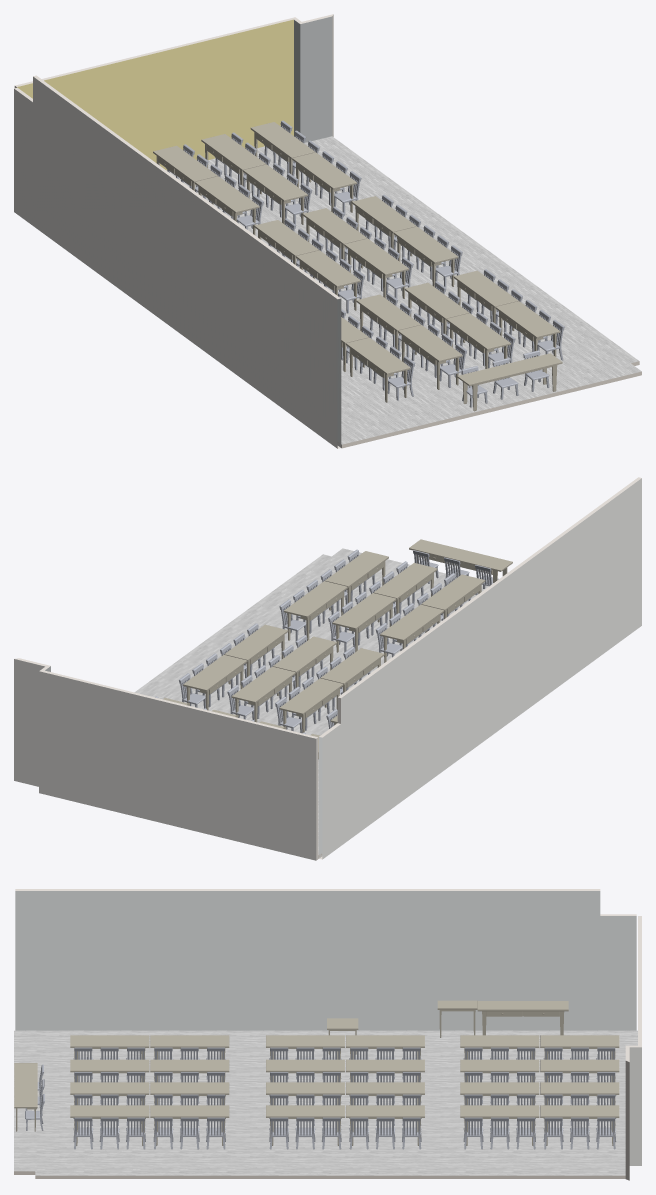
The picture shows the model from 3 angles, top to bottom: view 1: azimuth 30°, elevation 25°; view 2: azimuth 150°, elevation 25°; view 3: azimuth 270°, elevation 25°; orthographic projection. The views are drawn at different scales.
Visible parts, largest first — view 1: wall_28, floor_Dining Room_0, wall_0, wall_3, table10, table6.001, table6.002, table6.009, table6.022, table6.010, table6.006, table6.021 (+17 smaller); view 2: wall_28, wall_8, floor_Dining Room_0, wall_20, table10, table6.007, table6.004, table6.008, table6.011, table6.012, wall_29, table6.003 (+7 smaller); view 3: wall_5, floor_Dining Room_0, floor_Dining Room_2, table4, wall_32, wall_29, table10, table6.023, table6.022, table6.008, table6.009, table6.007 (+41 smaller).
Part boxes in pixels (left/top/right/bottom): wall_28: left=14, top=76, right=337, bottom=448; floor_Dining Room_0: left=166, top=136, right=641, bottom=444; wall_0: left=17, top=19, right=293, bottom=170; wall_3: left=300, top=16, right=332, bottom=142; table10: left=457, top=353, right=562, bottom=411; table6.001: left=346, top=337, right=410, bottom=402; table6.002: left=398, top=325, right=462, bottom=389; table6.009: left=393, top=226, right=458, bottom=286; table6.022: left=292, top=152, right=356, bottom=212; table6.010: left=344, top=238, right=408, bottom=298; table6.006: left=495, top=301, right=560, bottom=356; table6.021: left=243, top=164, right=307, bottom=224; wall_28: left=322, top=478, right=641, bottom=859; wall_8: left=39, top=671, right=316, bottom=860; floor_Dining Room_0: left=134, top=548, right=488, bottom=854; wall_20: left=14, top=659, right=44, bottom=786; table10: left=409, top=539, right=512, bottom=582; table6.007: left=284, top=581, right=347, bottom=640; table6.004: left=332, top=593, right=396, bottom=652; table6.008: left=183, top=655, right=247, bottom=710; table6.011: left=231, top=666, right=295, bottom=722; table6.012: left=279, top=678, right=343, bottom=732; wall_29: left=319, top=477, right=641, bottom=737; table6.003: left=380, top=604, right=443, bottom=662; wall_5: left=15, top=891, right=636, bottom=1030; floor_Dining Room_0: left=14, top=1030, right=637, bottom=1175; floor_Dining Room_2: left=14, top=1171, right=625, bottom=1178; table4: left=477, top=1001, right=568, bottom=1035; wall_32: left=629, top=1047, right=641, bottom=1165; wall_29: left=15, top=889, right=636, bottom=915; table10: left=14, top=1063, right=37, bottom=1131; table6.023: left=540, top=1105, right=619, bottom=1145; table6.022: left=460, top=1105, right=539, bottom=1145; table6.008: left=346, top=1105, right=424, bottom=1145; table6.009: left=266, top=1105, right=344, bottom=1145; table6.007: left=150, top=1105, right=229, bottom=1145.
Size of the model in its own units: 8.83 by 3.99 by 15.82.
Materials: 114 (1 with a texture image).
